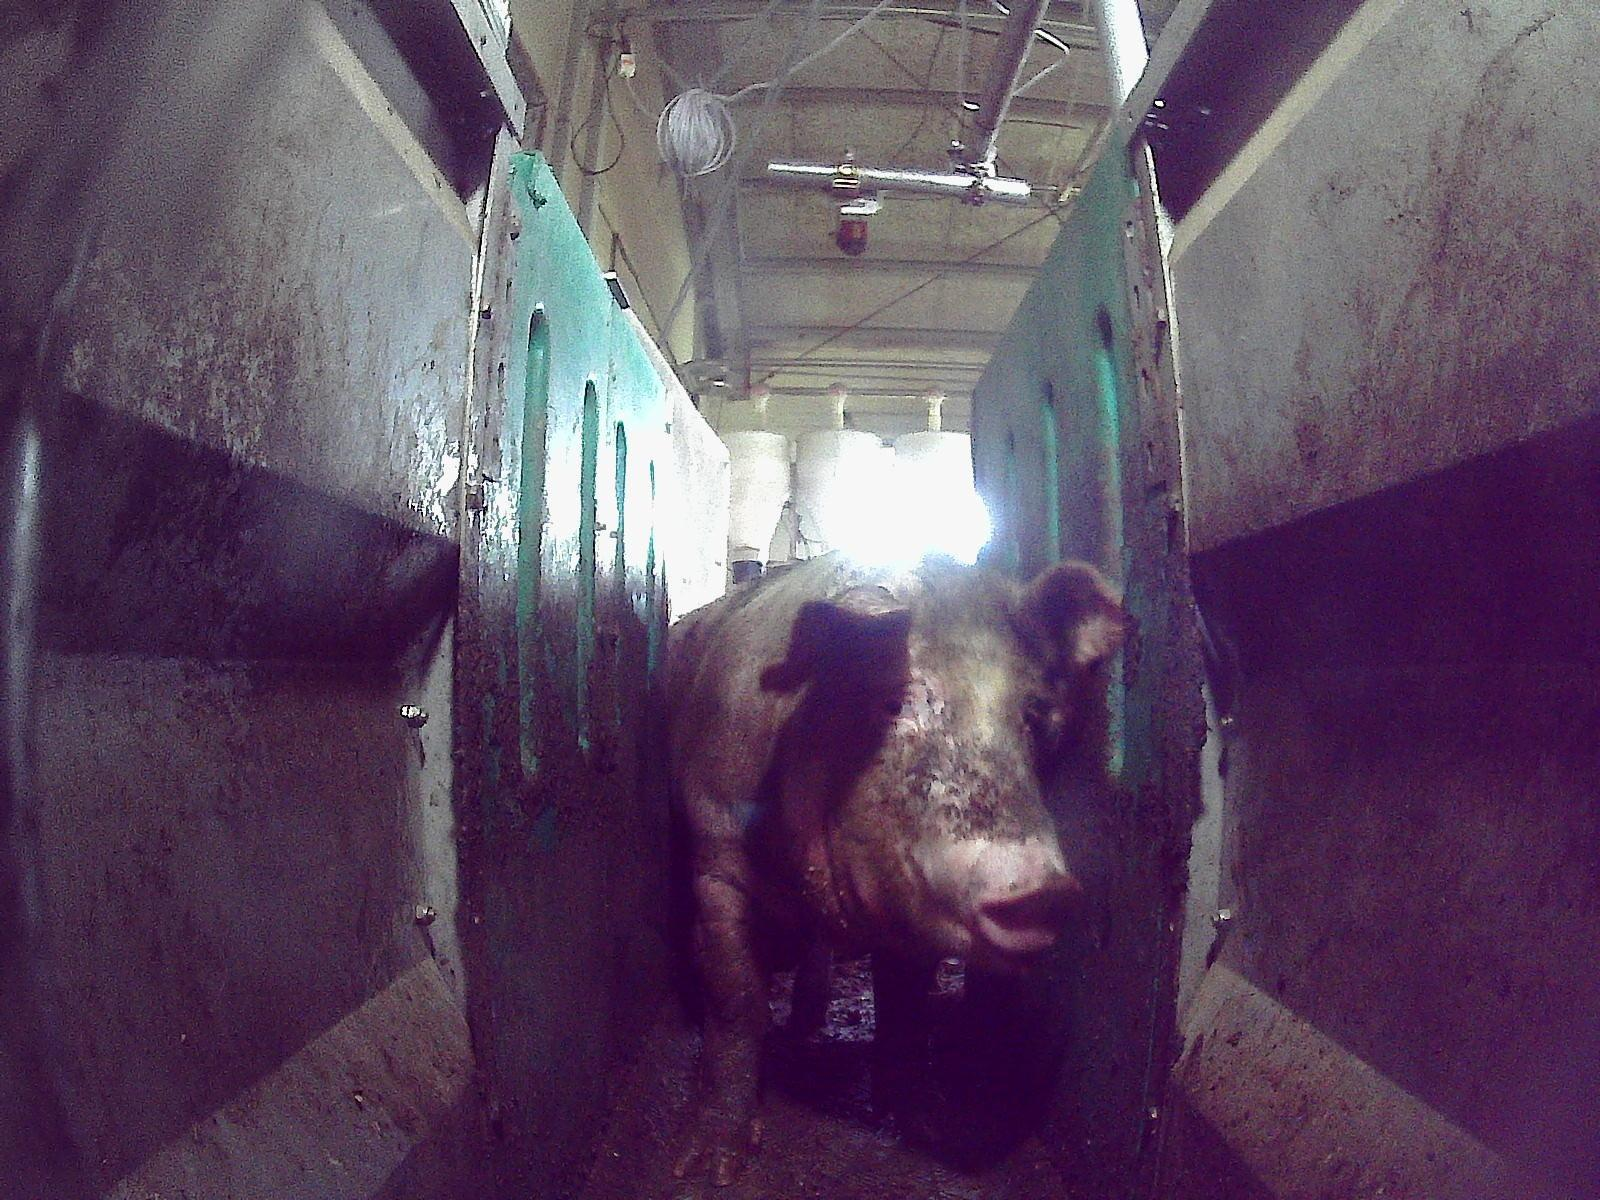Face: (779, 572, 1085, 970)
